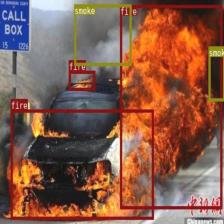fire: (119, 5, 222, 209), (11, 109, 153, 219), (68, 71, 95, 90)
smoke: (74, 4, 131, 65), (208, 46, 224, 101)
